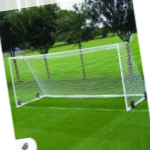goals: (7, 42, 145, 110)
